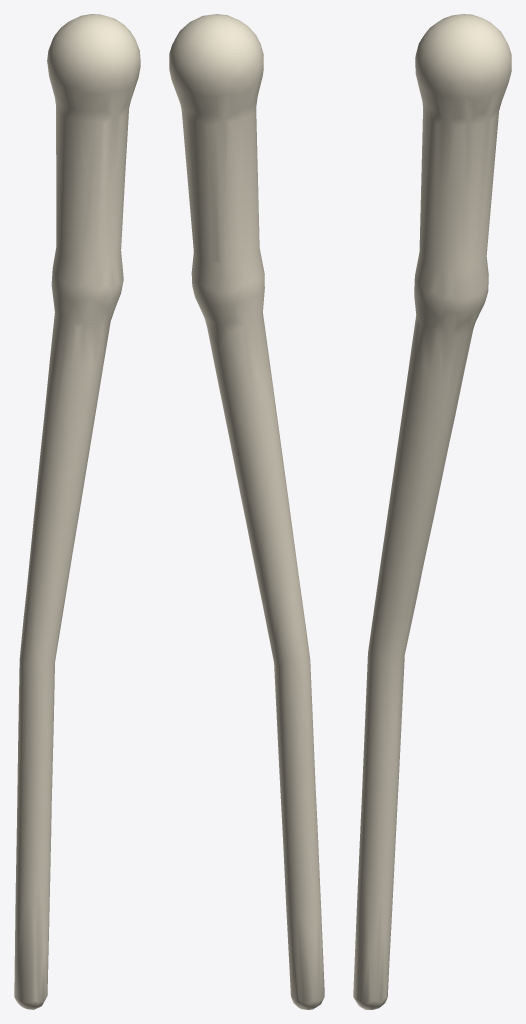
File: ulna_r.glb
The picture shows the model from 3 angles, left to right: view 1: azimuth 30°, elevation 25°; view 2: azimuth 150°, elevation 25°; view 3: azimuth 330°, elevation 25°; orthographic projection. The views are drawn at different scales.
Visible parts, largest first — view 1: geometry_0; view 2: geometry_0; view 3: geometry_0.
Boxes of the visible parts, x1=… form: geometry_0: x1=14, y1=14, x2=140, y2=1009; geometry_0: x1=169, y1=14, x2=324, y2=1009; geometry_0: x1=353, y1=14, x2=511, y2=1009.
Bounding box in the file's own units: 0.1438 × 1.01 × 0.0891.
